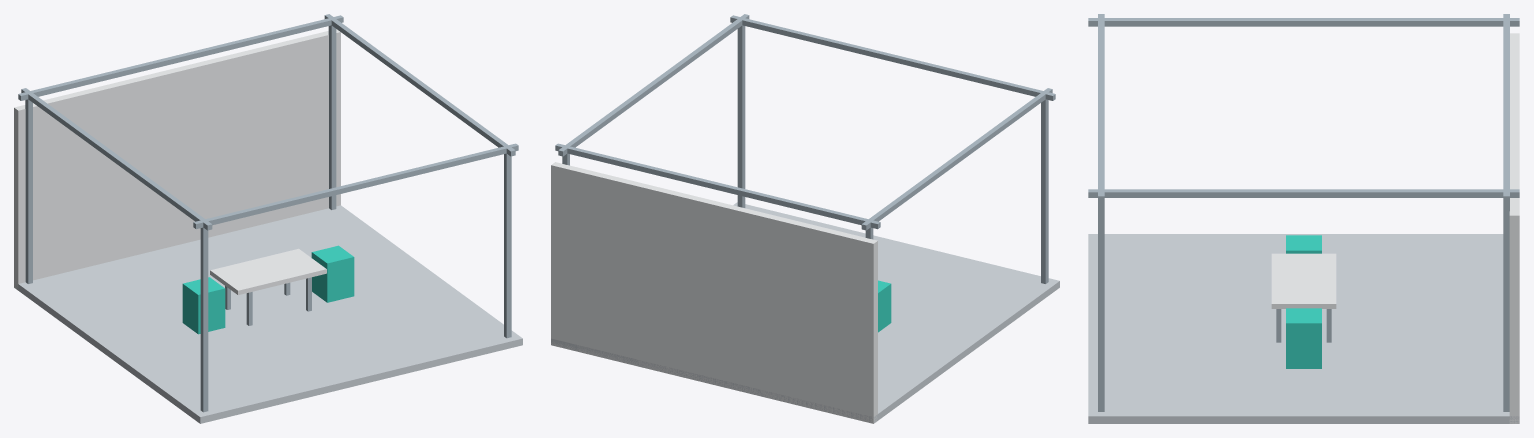
The picture shows the model from 3 angles, left to right: view 1: azimuth 30°, elevation 25°; view 2: azimuth 150°, elevation 25°; view 3: azimuth 270°, elevation 25°; orthographic projection. The views are drawn at different scales.
Visible parts, largest first — view 1: Exhibition Booth Concept; view 2: Exhibition Booth Concept; view 3: Exhibition Booth Concept.
Part boxes in pixels (bbox=[...]): Exhibition Booth Concept: bbox=[14, 14, 522, 423]; Exhibition Booth Concept: bbox=[551, 14, 1059, 423]; Exhibition Booth Concept: bbox=[1088, 14, 1519, 423].
Bounding box in the file's own units: 6 × 3.49 × 6.
